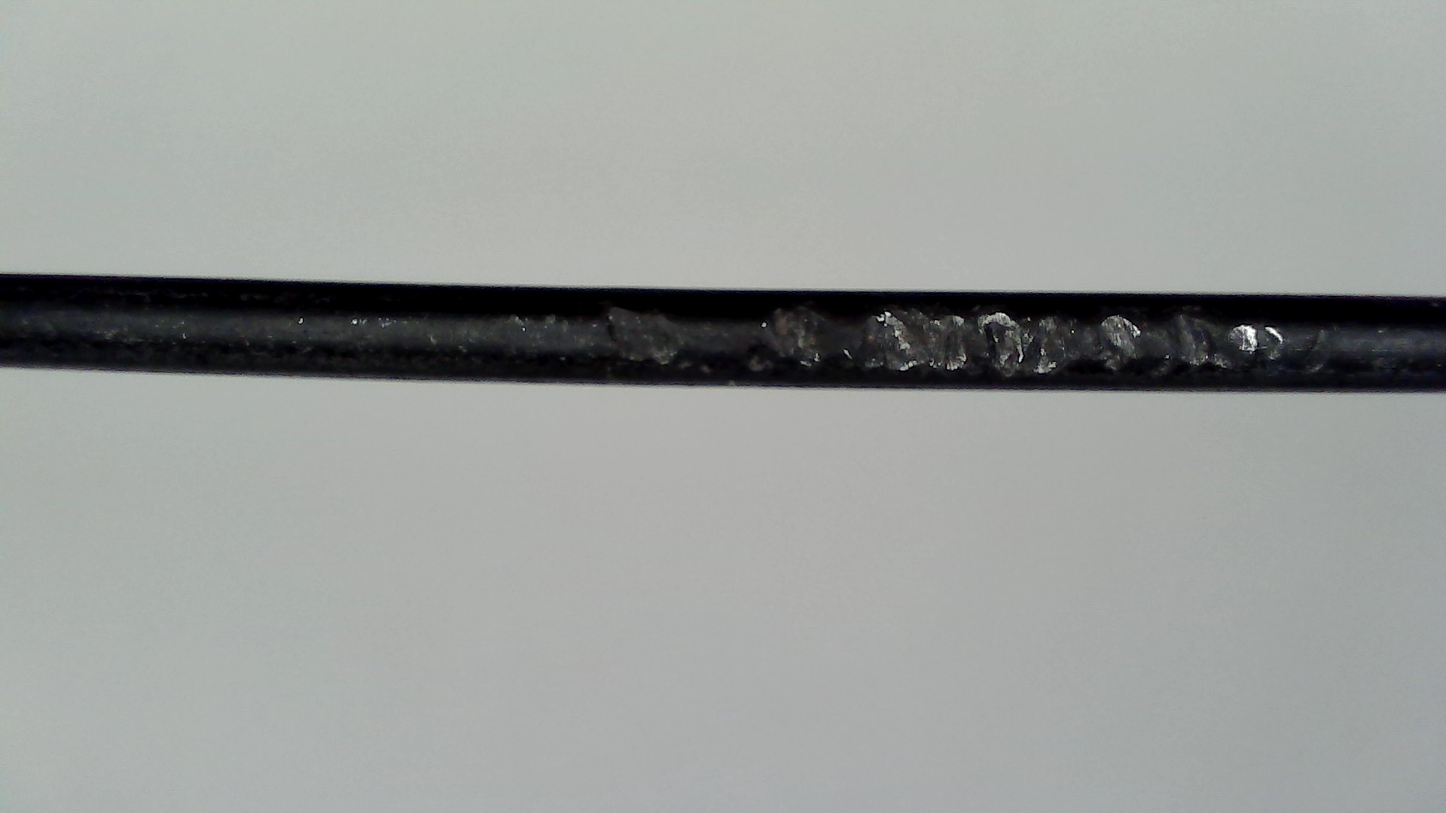defect: (746, 281, 1332, 377), (592, 286, 719, 376)
